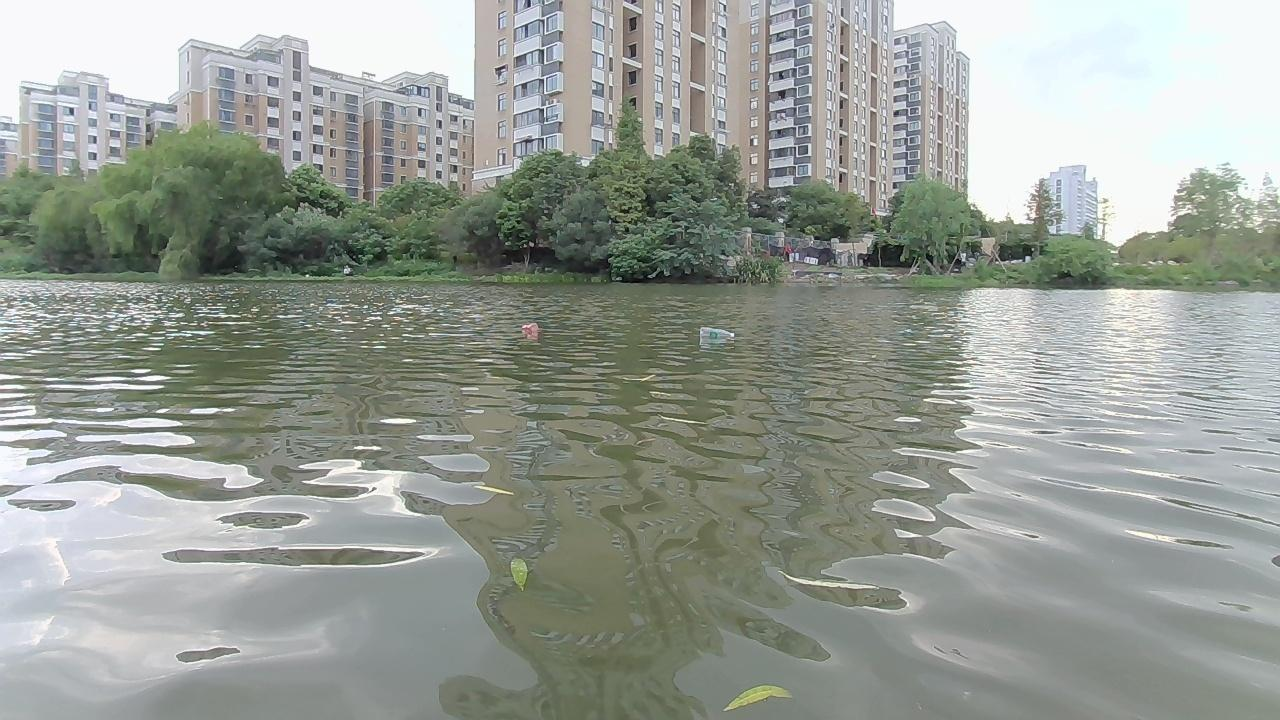bottle: (697, 322, 738, 342), (518, 317, 539, 336)
